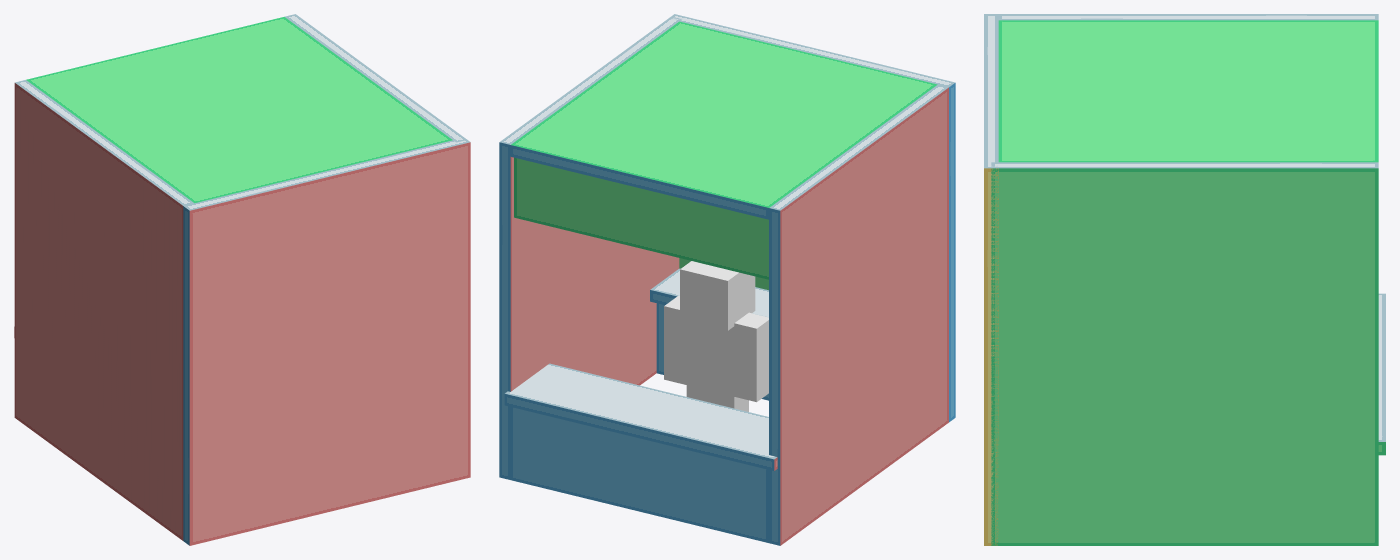
File: stall.gltf
3 renders of one model, left to right at view 1: azimuth 30°, elevation 25°; view 2: azimuth 150°, elevation 25°; view 3: azimuth 270°, elevation 25°, orthographic. The views are drawn at different scales.
Visible parts, largest first — view 1: Wall (×3), Ceiling; view 2: Wall (×4), Ceiling, Body (×2), Top, headwear, jacket, left_arm, right_arm, Shelf, left_leg; view 3: Wall (×3), Ceiling, Top.
Boxes of the visible parts, x1,y1,x2,y2 form: Wall (×3): (14, 14, 470, 545); Ceiling: (26, 17, 452, 203); Wall (×4): (499, 14, 955, 545); Ceiling: (510, 21, 937, 219); Body (×2): (510, 303, 768, 542); Top: (504, 363, 777, 470); headwear: (680, 261, 755, 330); jacket: (686, 321, 734, 394); left_arm: (734, 312, 768, 402); right_arm: (664, 295, 686, 384); Shelf: (650, 268, 768, 317); left_leg: (709, 388, 748, 411); Wall (×3): (984, 14, 1378, 545); Ceiling: (998, 20, 1378, 162); Top: (1378, 293, 1385, 455).
Bounding box in the file's own units: 3.12 × 3.58 × 3.44.
Materials: 7 (1 with a texture image).
